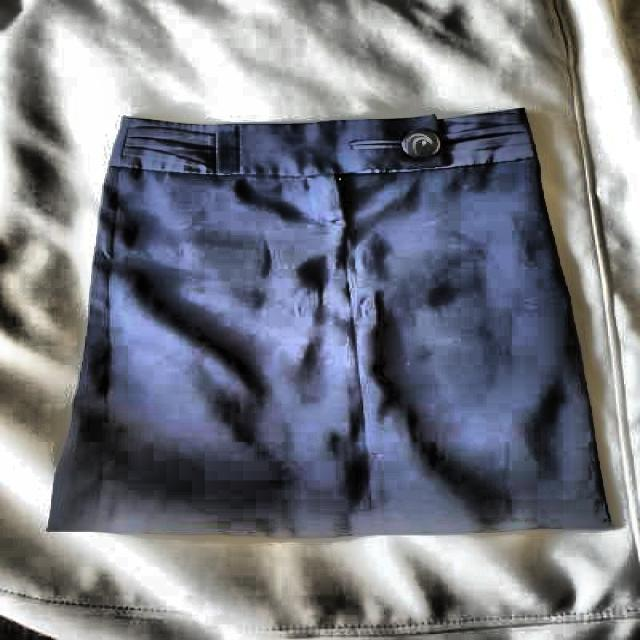clothes: (51, 113, 621, 537)
